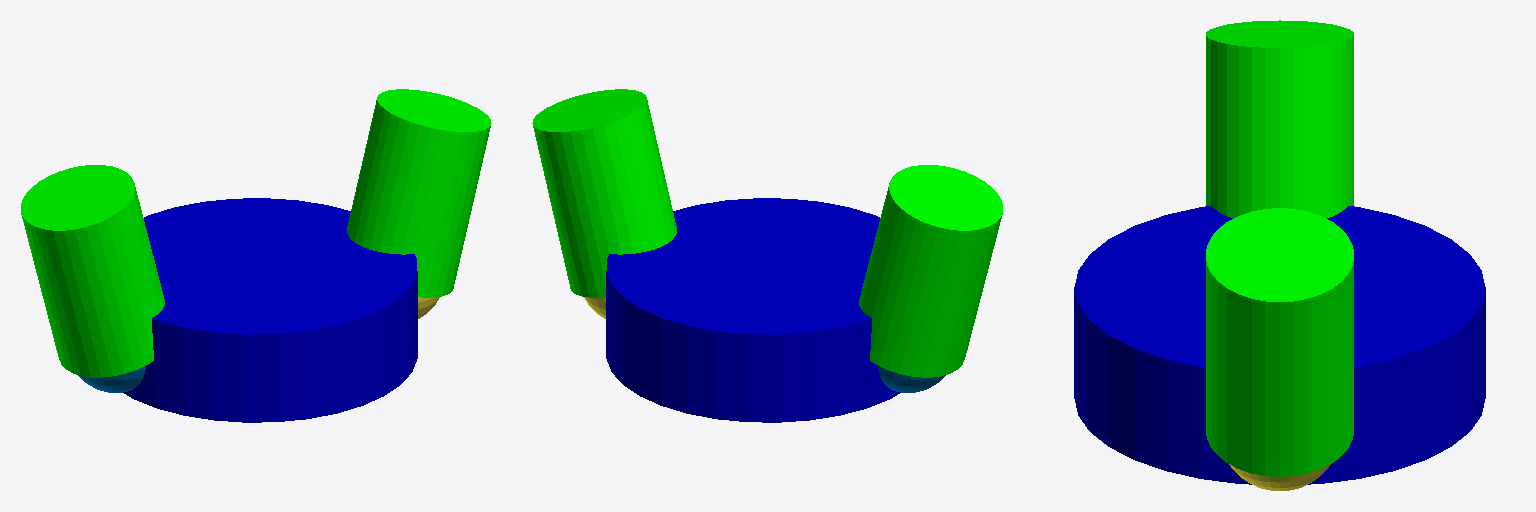
The robot description file, URDF, robot "gripper_2f_1j":
<?xml version='1.0' encoding='UTF-8'?>
<robot name="gripper_2f_1j">
  <link name="palm">
    <inertial>
      <origin xyz="0.0 0.0 0.0" rpy="0.0 -0.0 0.0"/>
      <mass value="1.0"/>
      <inertia ixx="1.0" ixy="0.0" ixz="0.0" iyy="1.0" iyz="0.0" izz="1.0"/>
    </inertial>
    <visual>
      <geometry>
        <cylinder radius="0.05" length="0.03"/>
      </geometry>
      <material name="blue"/>
      <origin xyz="0.0 0.0 0.0" rpy="0.0 -0.0 0.0"/>
    </visual>
    <collision>
      <geometry>
        <cylinder radius="0.05" length="0.03"/>
      </geometry>
      <origin xyz="0.0 0.0 0.0" rpy="0.0 0.0 0.0"/>
    </collision>
  </link>
  <link name="f11">
    <inertial>
      <origin xyz="0.0 0.0 0.0" rpy="0.0 -0.0 0.0"/>
      <mass value="1.0"/>
      <inertia ixx="1.0" ixy="0.0" ixz="0.0" iyy="1.0" iyz="0.0" izz="1.0"/>
    </inertial>
    <visual>
      <geometry>
        <cylinder radius="0.01811675772809334" length="0.05494850143890922"/>
      </geometry>
      <material name="green"/>
      <origin xyz="0.0 0.0 0.02747425071945461" rpy="0.0 -0.0 0.0"/>
    </visual>
    <collision>
      <geometry>
        <cylinder radius="0.01811675772809334" length="0.05494850143890922"/>
      </geometry>
      <origin xyz="0.0 0.0 0.05" rpy="0.0 0.0 0.0"/>
    </collision>
  </link>
  <link name="f21">
    <inertial>
      <origin xyz="0.0 0.0 0.0" rpy="0.0 -0.0 0.0"/>
      <mass value="1.0"/>
      <inertia ixx="1.0" ixy="0.0" ixz="0.0" iyy="1.0" iyz="0.0" izz="1.0"/>
    </inertial>
    <visual>
      <geometry>
        <cylinder radius="0.01811675772809334" length="0.05494850143890922"/>
      </geometry>
      <material name="green"/>
      <origin xyz="0.0 0.0 0.02747425071945461" rpy="0.0 -0.0 0.0"/>
    </visual>
    <collision>
      <geometry>
        <cylinder radius="0.01811675772809334" length="0.05494850143890922"/>
      </geometry>
      <origin xyz="0.0 0.0 0.05" rpy="0.0 0.0 0.0"/>
    </collision>
  </link>
  <link name="f11_base">
    <inertial>
      <origin xyz="0.0 0.0 0.0" rpy="0.0 -0.0 0.0"/>
      <mass value="1.0"/>
      <inertia ixx="1.0" ixy="0.0" ixz="0.0" iyy="1.0" iyz="0.0" izz="1.0"/>
    </inertial>
    <visual>
      <geometry>
        <sphere radius="0.015"/>
      </geometry>
      <origin xyz="0.0 0.0 0.0" rpy="0.0 -0.0 0.0"/>
    </visual>
  </link>
  <link name="f21_base">
    <inertial>
      <origin xyz="0.0 0.0 0.0" rpy="0.0 -0.0 0.0"/>
      <mass value="1.0"/>
      <inertia ixx="1.0" ixy="0.0" ixz="0.0" iyy="1.0" iyz="0.0" izz="1.0"/>
    </inertial>
    <visual>
      <geometry>
        <sphere radius="0.015"/>
      </geometry>
      <origin xyz="0.0 0.0 0.0" rpy="0.0 -0.0 0.0"/>
    </visual>
  </link>
  <joint name="f11_joint" type="revolute">
    <dynamics damping="100.0" friction="1.0"/>
    <limit effort="30.0" velocity="2.0" lower="-0.6" upper="0.25"/>
    <parent link="f11_base"/>
    <child link="f11"/>
    <axis xyz="0. 1. 0."/>
    <origin xyz="0.0 0.0 0.0" rpy="0.0 0.25 0.0"/>
  </joint>
  <joint name="f21_joint" type="revolute">
    <dynamics damping="100.0" friction="1.0"/>
    <limit effort="30.0" velocity="2.0" lower="-0.6" upper="0.25"/>
    <parent link="f21_base"/>
    <child link="f21"/>
    <axis xyz=" 0. -1.  0."/>
    <origin xyz="0.0 0.0 0.0" rpy="0.0 -0.25 0.0"/>
  </joint>
  <joint name="f11_base_joint" type="fixed">
    <parent link="palm"/>
    <child link="f11_base"/>
    <axis xyz="1. 0. 0."/>
    <origin xyz="0.05 0.0 0.0" rpy="0.0 0.0 0.0"/>
  </joint>
  <joint name="f21_base_joint" type="fixed">
    <parent link="palm"/>
    <child link="f21_base"/>
    <axis xyz="1. 0. 0."/>
    <origin xyz="-0.05 -0.0 0.0" rpy="0.0 0.0 0.0"/>
  </joint>
  <material name="blue">
    <color rgba="0.  0.  0.8 1. "/>
  </material>
  <material name="green">
    <color rgba="0. 1. 0. 1."/>
  </material>
</robot>

--- Facts derived from the render (not from the file) ---
Views: 3 orthographic renders of the robot side by side, from view 1: azimuth 30°, elevation 25°; view 2: azimuth 150°, elevation 25°; view 3: azimuth 270°, elevation 25°.
Robot: gripper_2f_1j — 5 links, 4 joints (2 revolute, 2 fixed); root link palm; default pose: all joints at 0.
Links seen in each view (by area): view 1: palm, f21, f11, f21_base; view 2: palm, f21, f11, f21_base; view 3: palm, f11, f21, f11_base.
Boxes of the visible links, x1=… form: palm: x1=123, y1=198, x2=417, y2=422; f21: x1=21, y1=165, x2=164, y2=377; f11: x1=347, y1=89, x2=491, y2=297; f21_base: x1=78, y1=366, x2=145, y2=392; palm: x1=606, y1=198, x2=900, y2=422; f21: x1=859, y1=165, x2=1002, y2=377; f11: x1=532, y1=89, x2=676, y2=297; f21_base: x1=878, y1=366, x2=945, y2=392; palm: x1=1074, y1=206, x2=1485, y2=484; f11: x1=1206, y1=208, x2=1353, y2=476; f21: x1=1206, y1=20, x2=1353, y2=218; f11_base: x1=1229, y1=464, x2=1330, y2=490.
Bounding box of the posed robot: 0.1623 × 0.1 × 0.0727 m (x, y, z).
Geometry: primitives only (box / cylinder / sphere), no mesh files.